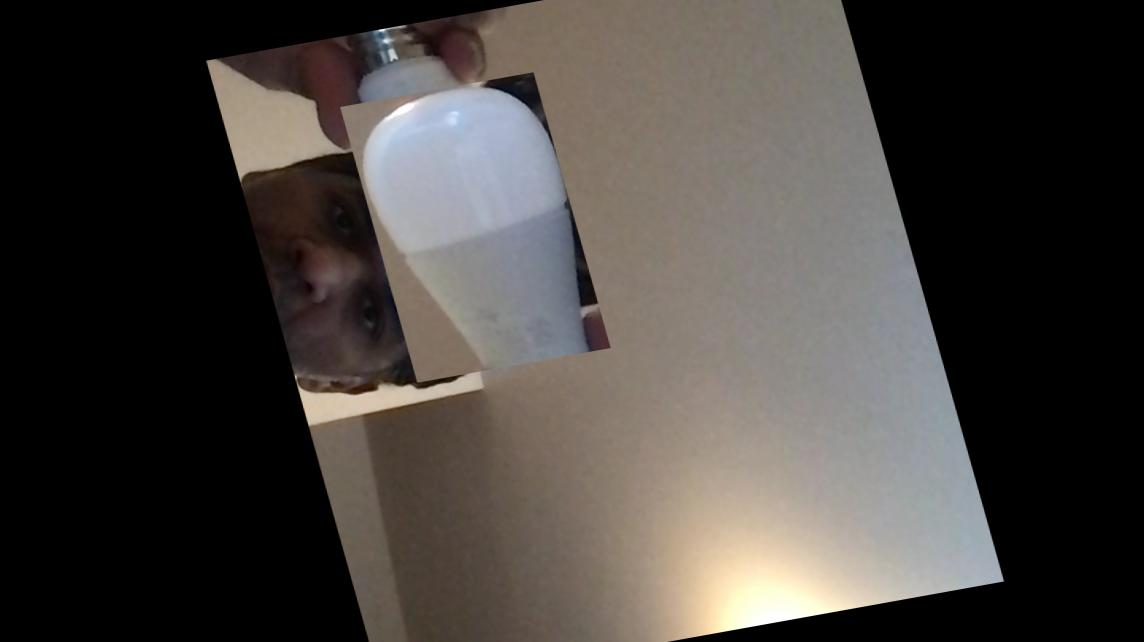Fan: (335, 72, 606, 382)
